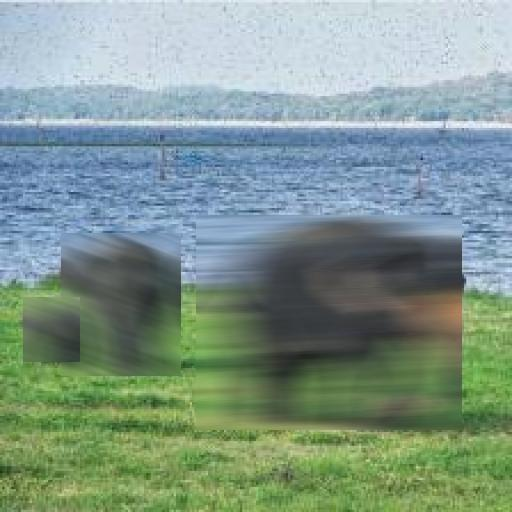Elephant: (196, 215, 462, 430), (62, 233, 182, 376), (23, 297, 80, 362)
